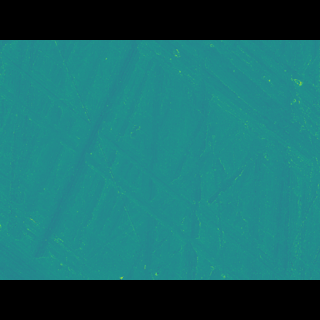Loch: (0, 79, 299, 251), (135, 69, 320, 179)
